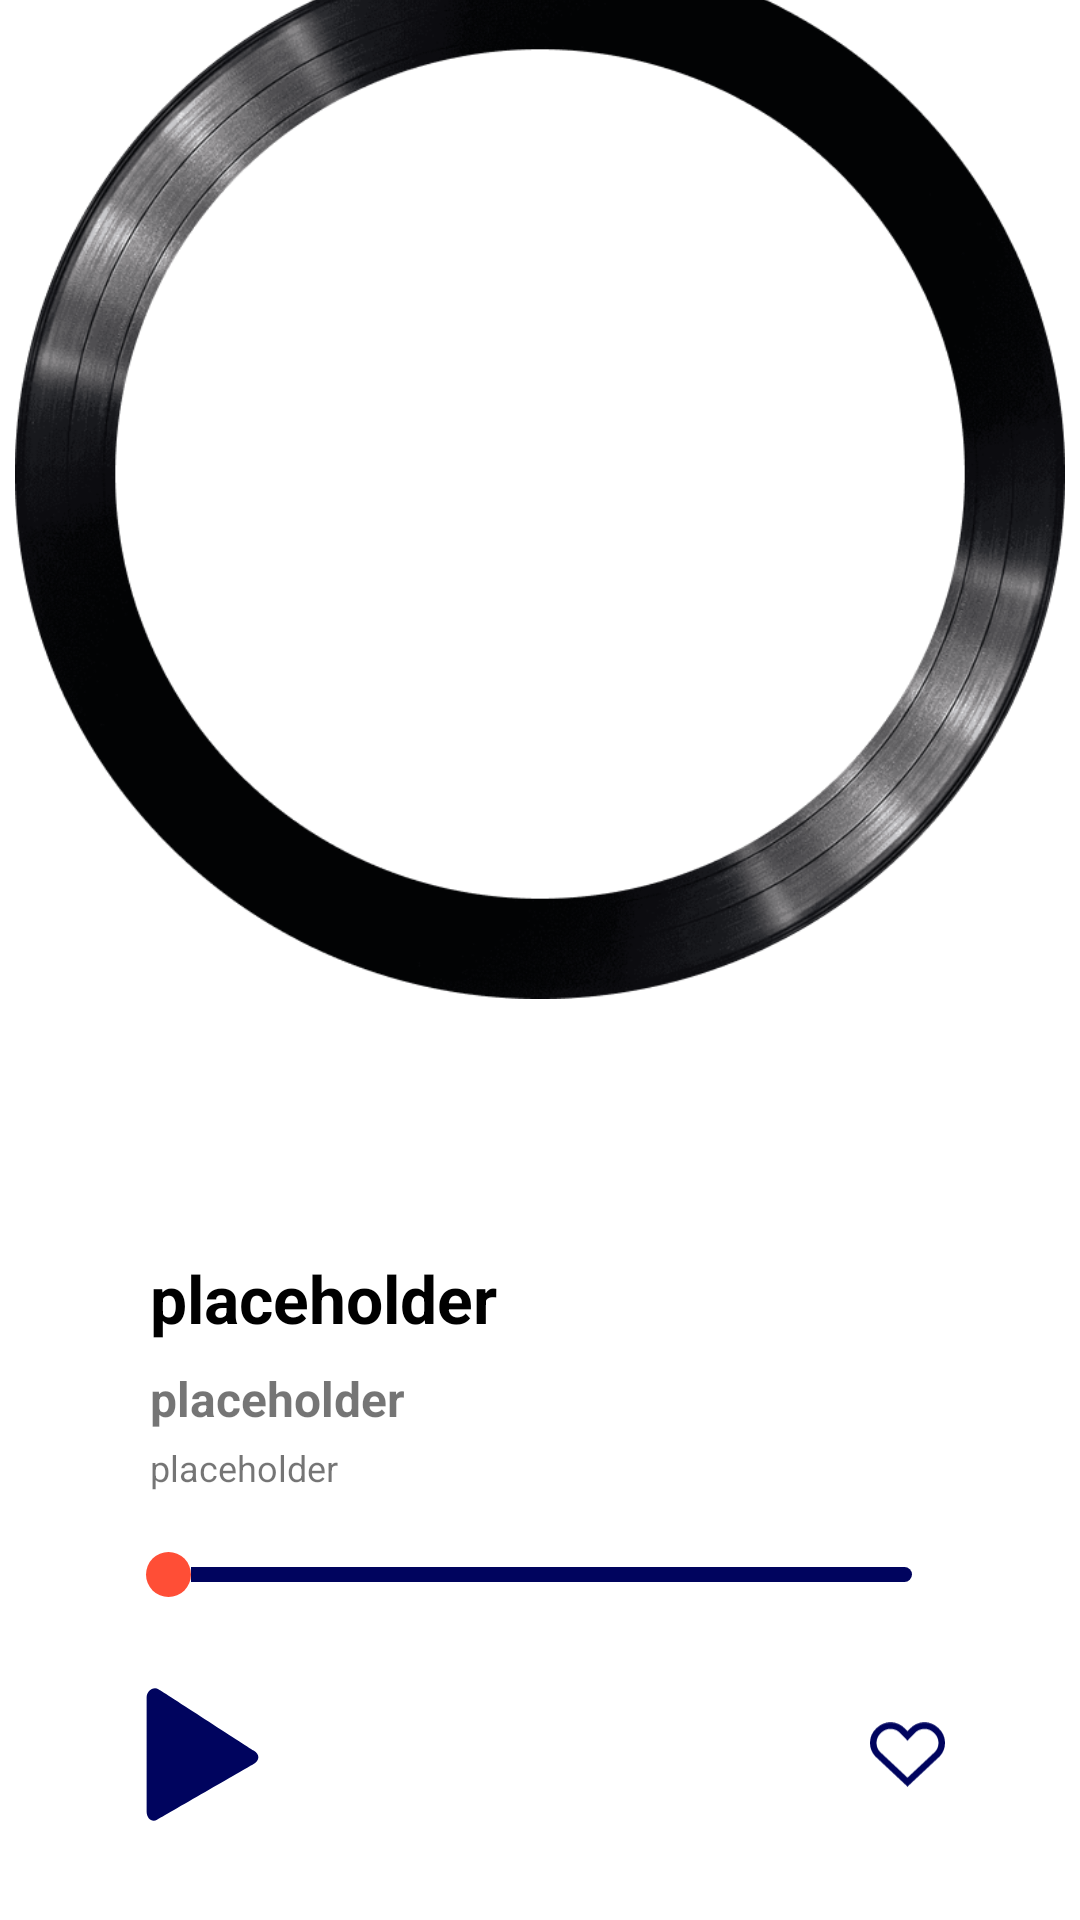

Icons on this 1080w x 1920h Android screen, each with the point to tap as (x=x, y=y):
heart: (x=907, y=1754)
play: (x=202, y=1754)
